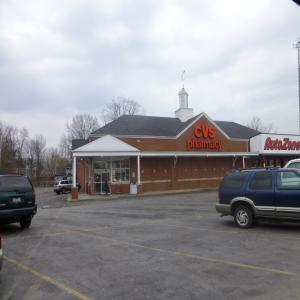Vehicle-registration-plate: (14, 199, 21, 204)
